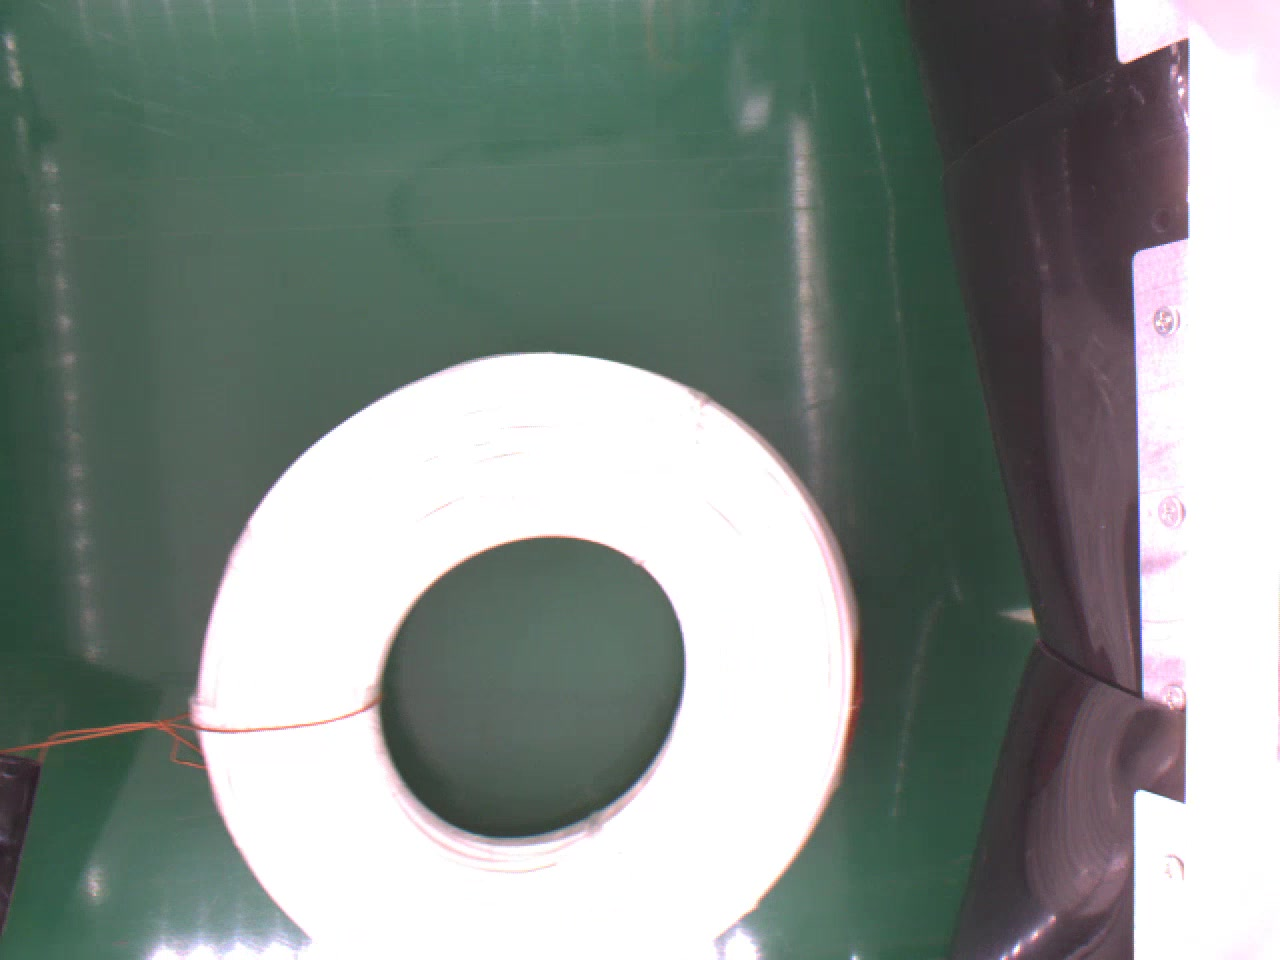white: (184, 346, 860, 960)
